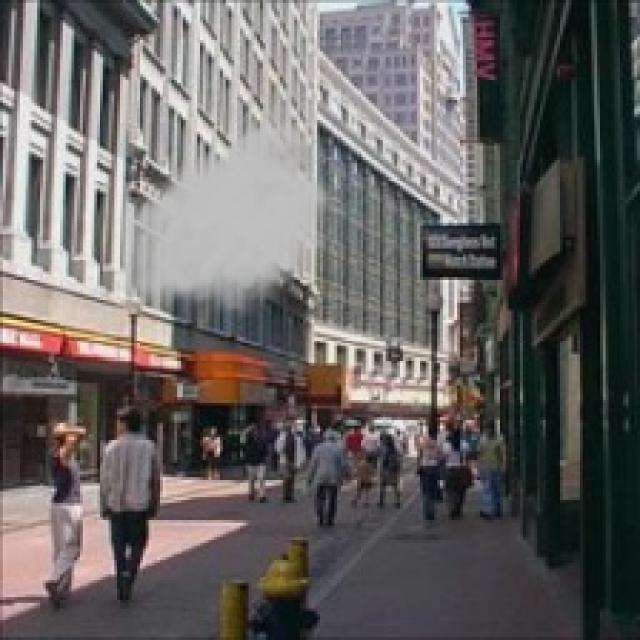smoke: (106, 77, 340, 317)
